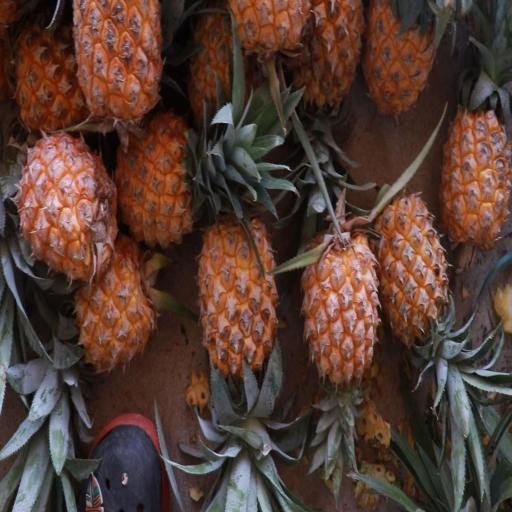Pineapple - v8 v1: (98, 104, 222, 252), (196, 206, 282, 417), (16, 128, 120, 293), (368, 185, 452, 378), (298, 213, 386, 396), (55, 0, 154, 155), (71, 228, 164, 383), (437, 66, 512, 256), (362, 0, 442, 127)
